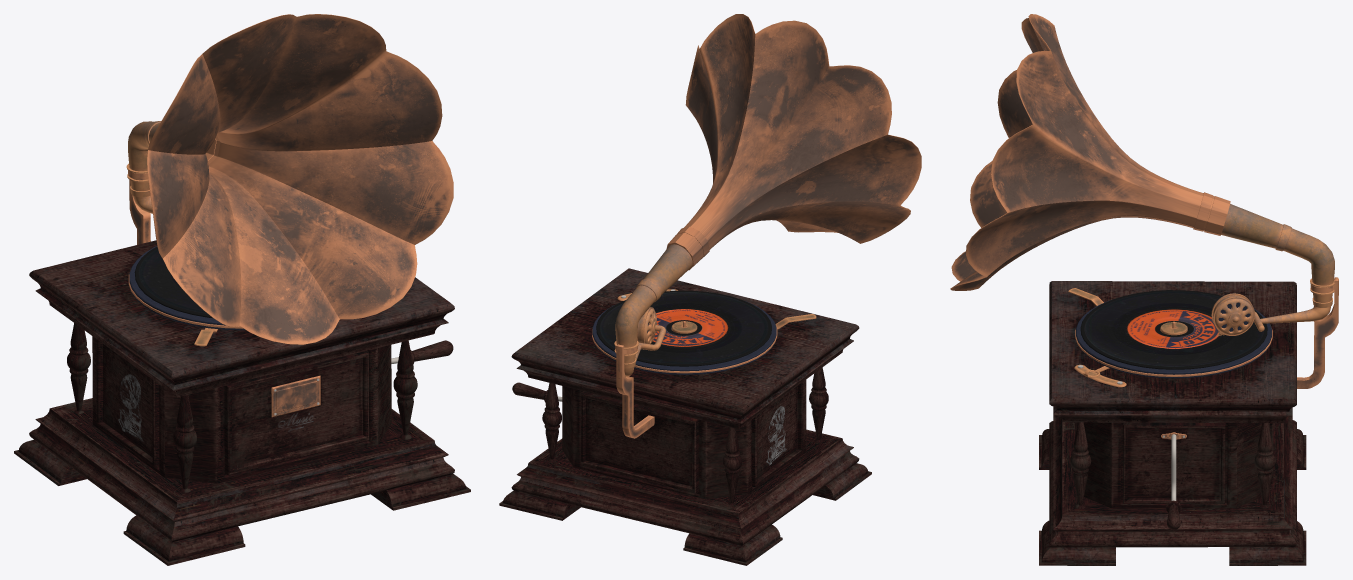
The model's file is gramaphone.glb.
The picture shows the model from 3 angles, left to right: view 1: azimuth 30°, elevation 25°; view 2: azimuth 150°, elevation 25°; view 3: azimuth 270°, elevation 25°; orthographic projection. The views are drawn at different scales.
Visible parts, largest first — view 1: Object_6, Object_5, Object_4, Object_3, Object_8; view 2: Object_5, Object_6, Object_4, Object_3, Object_8; view 3: Object_5, Object_6, Object_4, Object_3, Object_8.
Part boxes in pixels (x1=…): Object_6: x1=128, y1=14, x2=453, y2=417; Object_5: x1=14, y1=240, x2=470, y2=565; Object_4: x1=134, y1=246, x2=212, y2=318; Object_3: x1=126, y1=121, x2=217, y2=346; Object_8: x1=129, y1=246, x2=245, y2=330; Object_5: x1=499, y1=268, x2=871, y2=565; Object_6: x1=592, y1=14, x2=921, y2=438; Object_4: x1=596, y1=290, x2=771, y2=366; Object_3: x1=614, y1=244, x2=816, y2=376; Object_8: x1=592, y1=301, x2=776, y2=374; Object_5: x1=1039, y1=281, x2=1306, y2=565; Object_6: x1=950, y1=14, x2=1338, y2=439; Object_4: x1=1080, y1=290, x2=1267, y2=369; Object_3: x1=1068, y1=204, x2=1335, y2=387; Object_8: x1=1076, y1=300, x2=1271, y2=378.
Size of the model in its own units: 0.7745 by 0.9754 by 0.7499.
Materials: 6 (6 with a texture image).
